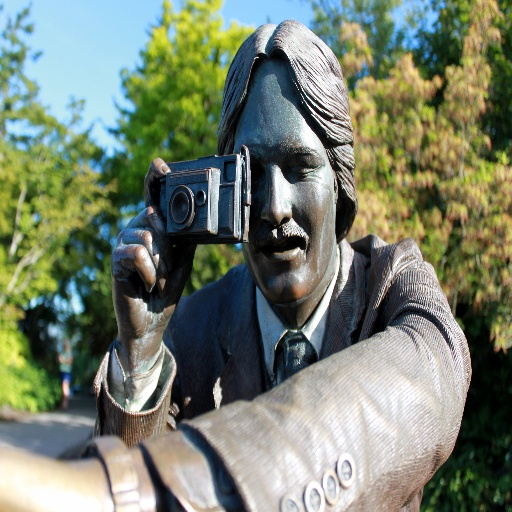hand: (93, 210, 188, 421), (0, 439, 101, 511)
